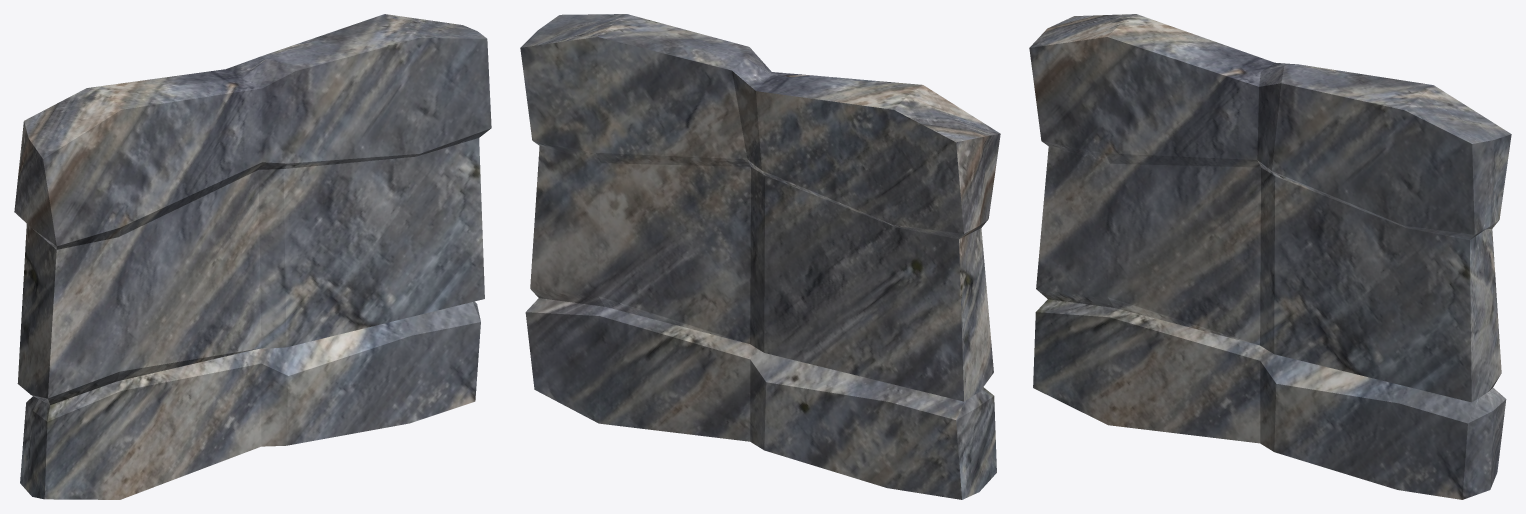
File: RockWall_10.fbx
3 views of the same model, side by side, from view 1: azimuth 30°, elevation 25°; view 2: azimuth 150°, elevation 25°; view 3: azimuth 330°, elevation 25° (orthographic).
Parts seen in each view (by area): view 1: polySurface12; view 2: polySurface12; view 3: polySurface12.
Boxes of the visible parts, x1,y1,x2,y2 form: polySurface12: (14,14,491,499); polySurface12: (520,14,1000,499); polySurface12: (1029,14,1511,499).
Size of the model in its own units: 18.45 by 15.47 by 2.4.
